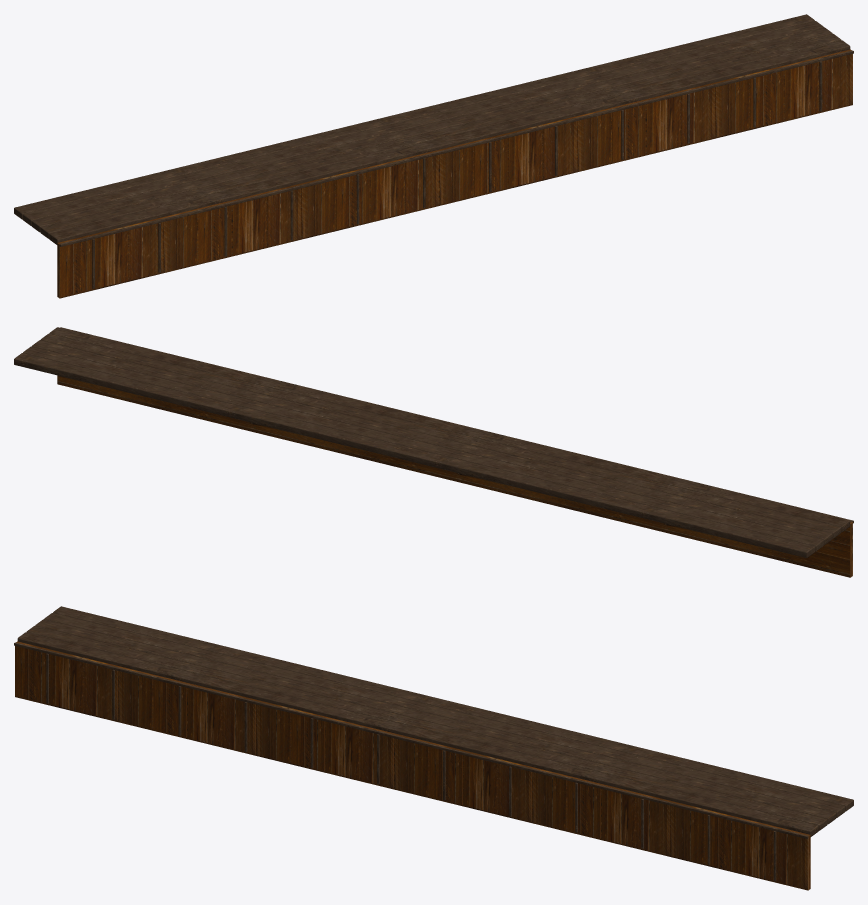
File: PROP_WarmWood_Counter_A.glb
3 renders of one model, top to bottom at view 1: azimuth 30°, elevation 25°; view 2: azimuth 150°, elevation 25°; view 3: azimuth 330°, elevation 25°, orthographic.
Parts seen in each view (by area): view 1: PROP_WarmWood_Counter_A; view 2: PROP_WarmWood_Counter_A; view 3: PROP_WarmWood_Counter_A.
Boxes of the visible parts, x1=… form: PROP_WarmWood_Counter_A: x1=14, y1=14, x2=853, y2=298; PROP_WarmWood_Counter_A: x1=14, y1=327, x2=853, y2=577; PROP_WarmWood_Counter_A: x1=14, y1=606, x2=853, y2=890.
Size of the model in its own units: 6.9 by 0.479 by 0.709.
3 materials, 3 textured.
